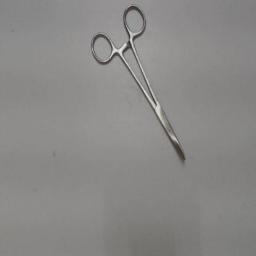Crile Artery Forceps: (88, 2, 192, 166)
